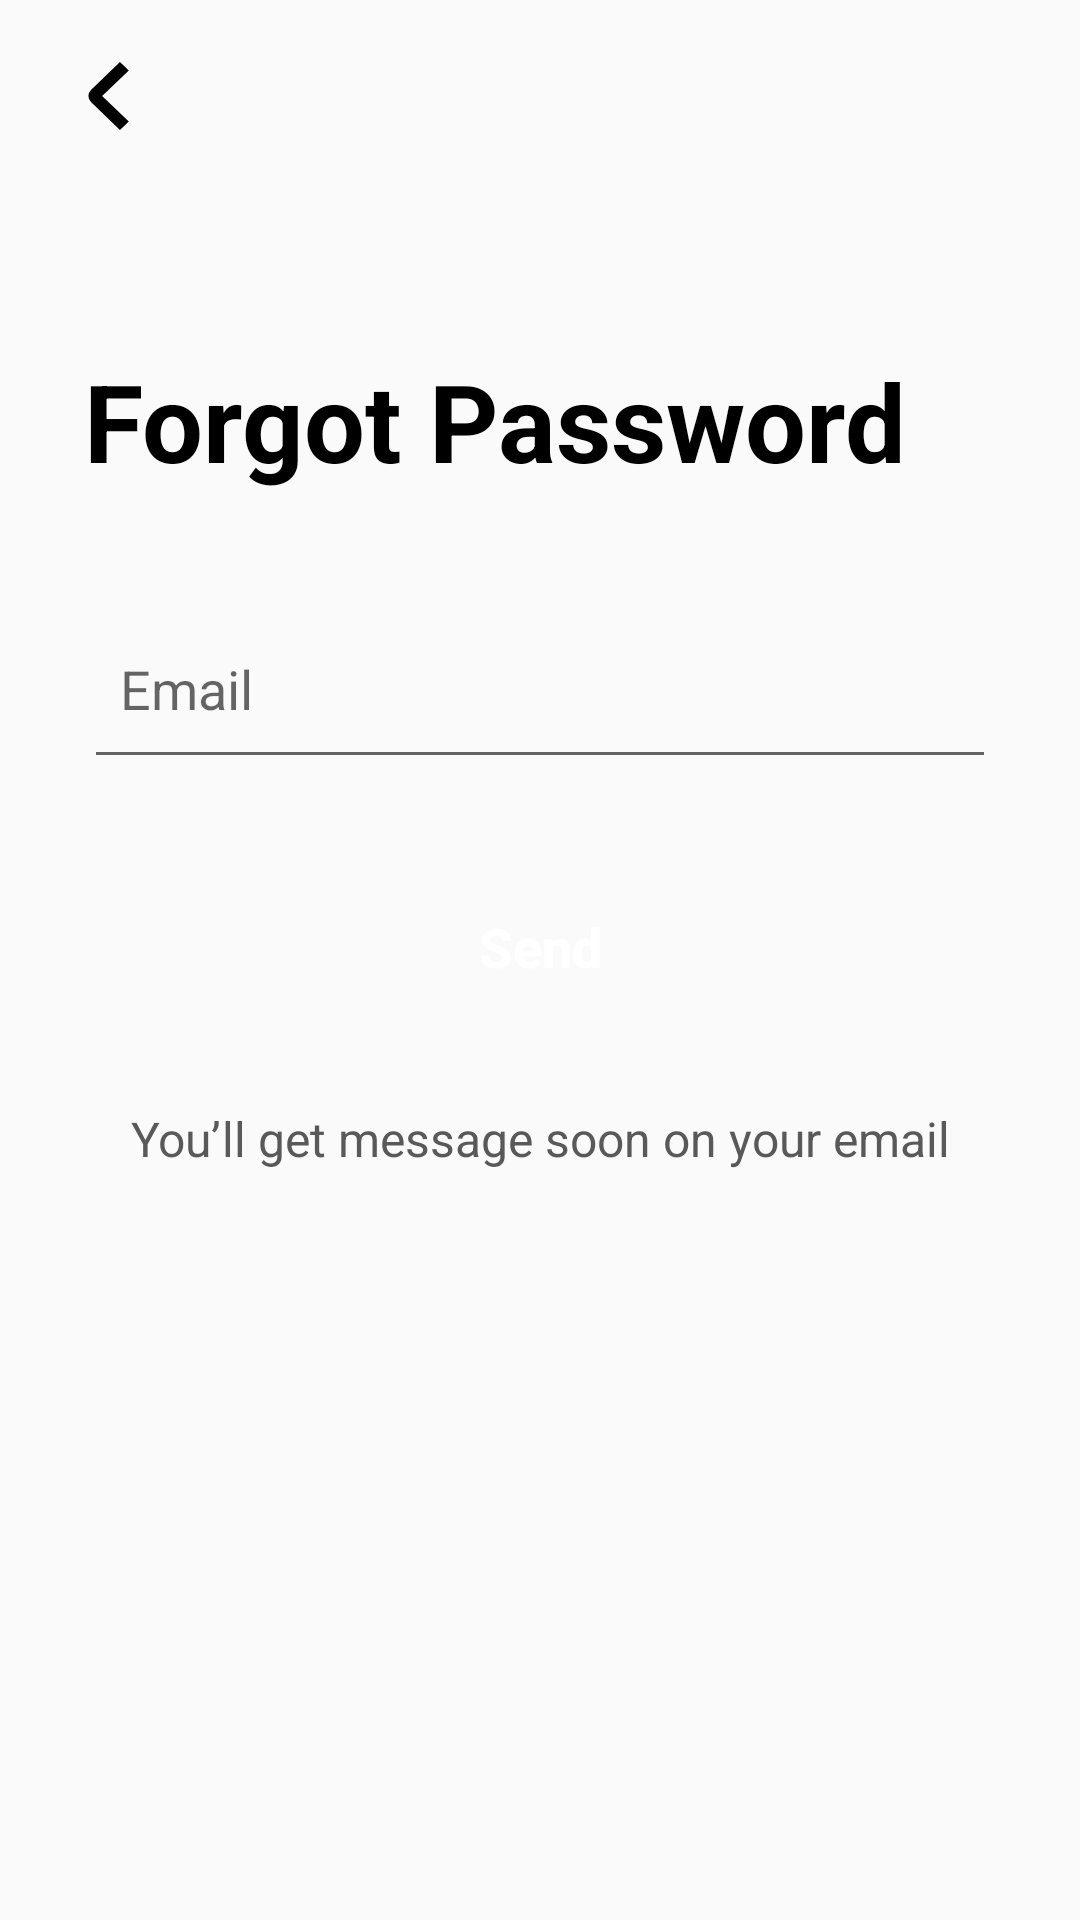

Where icons sit on this 1080×1920 app screen, as (left=x1, top=y1, right=x2, bottom=y2):
btnback: (left=88, top=62, right=129, bottom=130)
